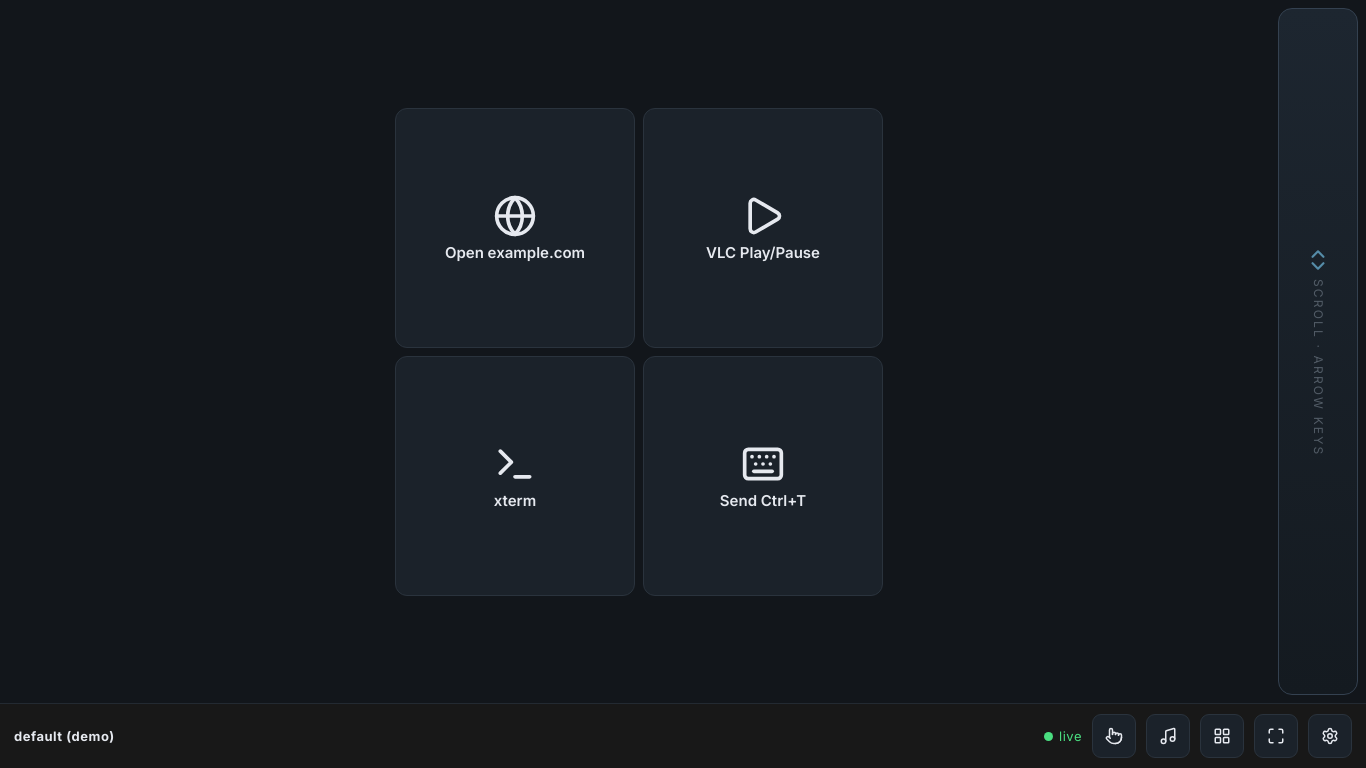
Test: App — running windows chrome view › renders the no-running-programs empty state on an empty snapshot
Press the mouse on the button named "running programs" at [1222, 736], box [1200, 714, 1244, 758]
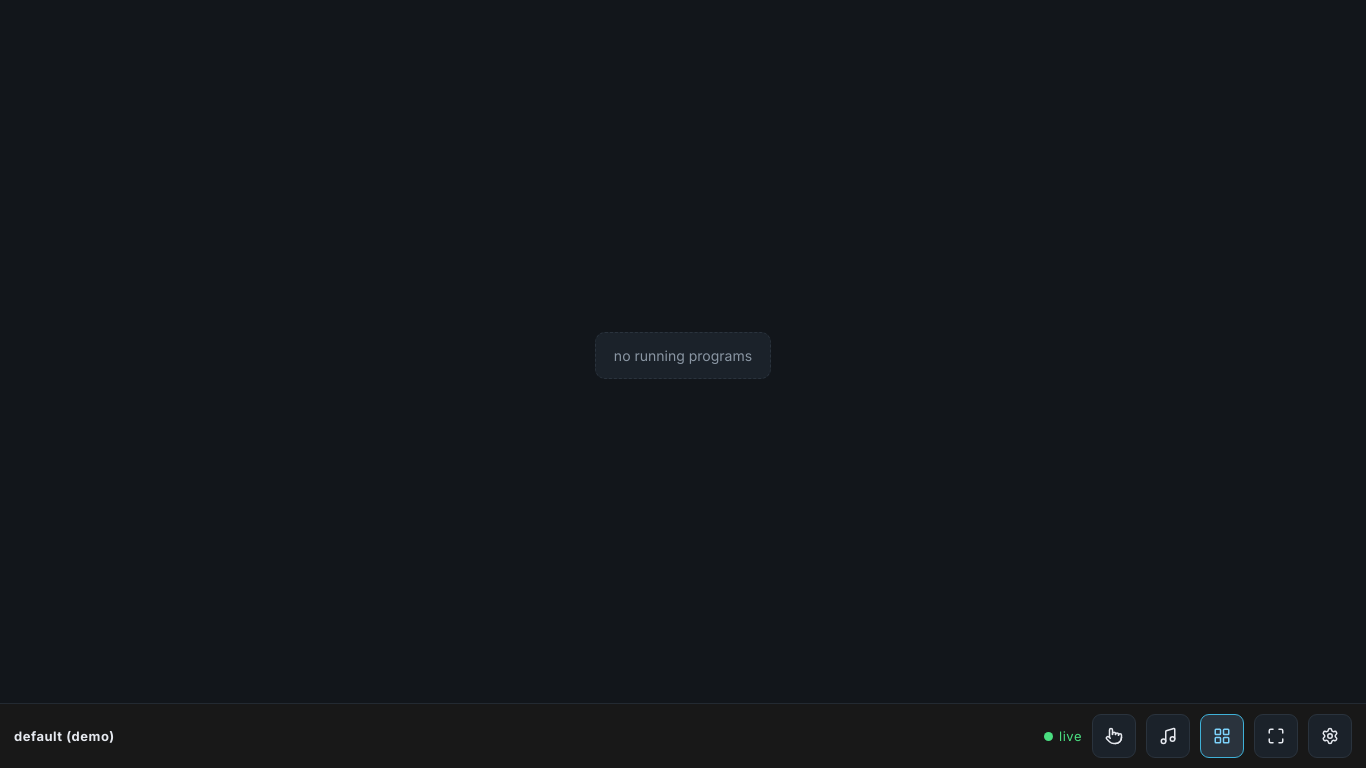
Expected: the text "no running programs" is shown, [595, 332, 771, 379]
